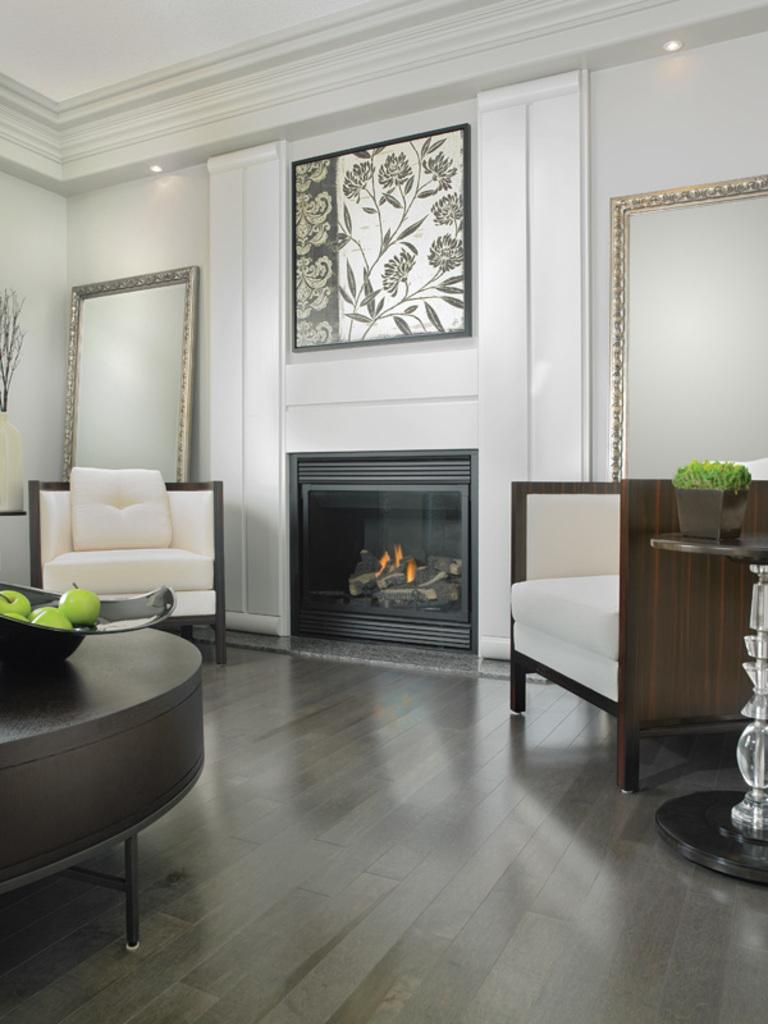Fire: (362, 547, 432, 599)
